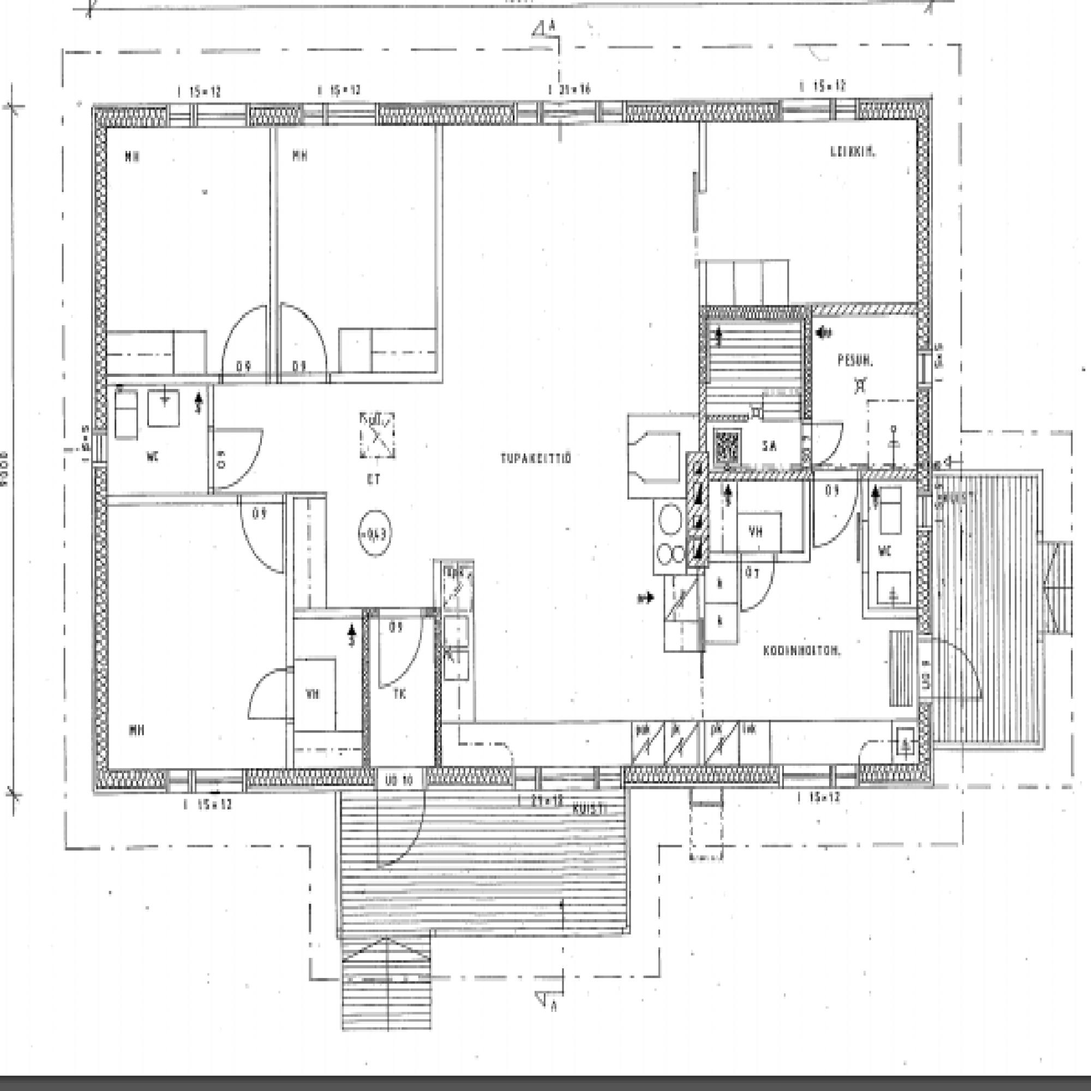wall: (92, 101, 931, 126), (92, 765, 931, 790), (914, 101, 931, 790), (92, 101, 107, 790), (92, 372, 443, 384), (698, 101, 708, 452), (698, 468, 931, 483), (698, 451, 708, 790), (685, 451, 706, 576), (698, 308, 931, 319), (287, 495, 295, 789), (435, 101, 443, 384), (92, 495, 295, 506), (270, 101, 277, 384), (803, 308, 810, 563), (435, 561, 442, 790), (287, 610, 440, 620), (364, 611, 371, 790), (862, 468, 869, 619), (708, 553, 810, 563), (208, 372, 215, 506), (862, 609, 931, 619), (287, 495, 326, 499)
